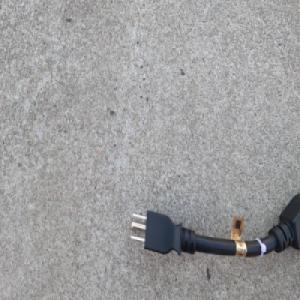Wire: (127, 189, 300, 257)
